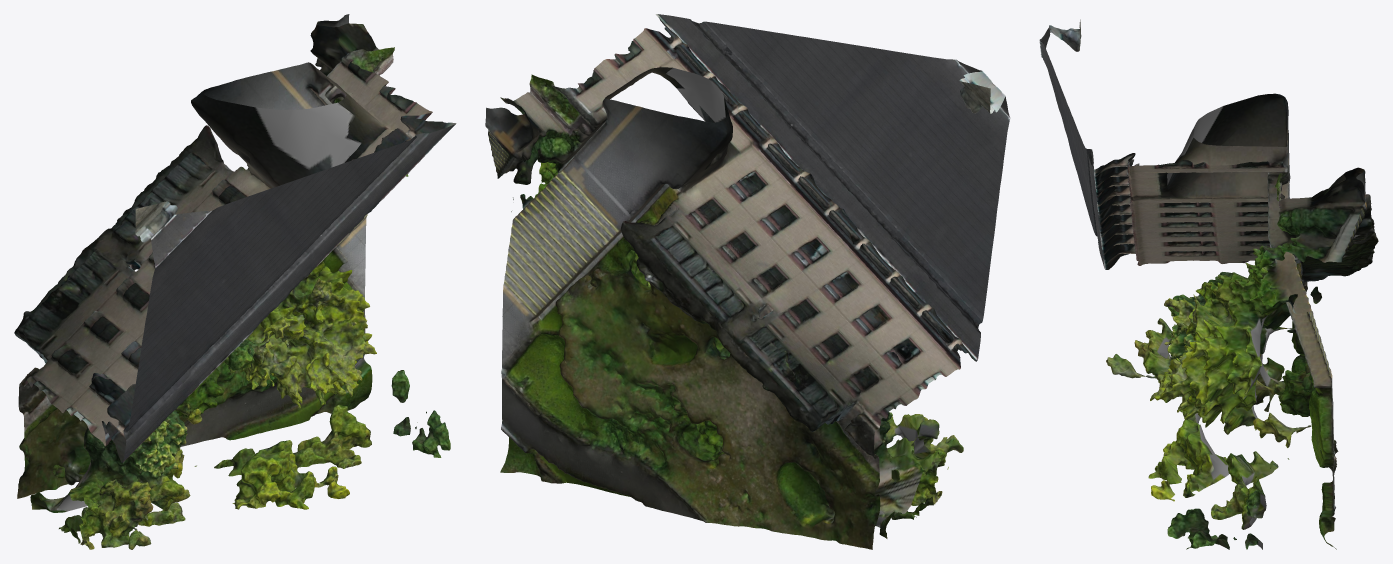
The model's file is Tile_+007_+025.fbx.
3 renders of one model, left to right at view 1: azimuth 30°, elevation 25°; view 2: azimuth 150°, elevation 25°; view 3: azimuth 270°, elevation 25°, orthographic. The views are drawn at different scales.
Parts seen in each view (by area): view 1: DefaultName; view 2: DefaultName; view 3: DefaultName.
Boxes of the visible parts, x1,y1,x2,y2 form: DefaultName: (14, 14, 456, 549); DefaultName: (485, 14, 1010, 549); DefaultName: (1039, 19, 1378, 549).
Bounding box in the file's own units: 22.54 × 22.54 × 18.95.
